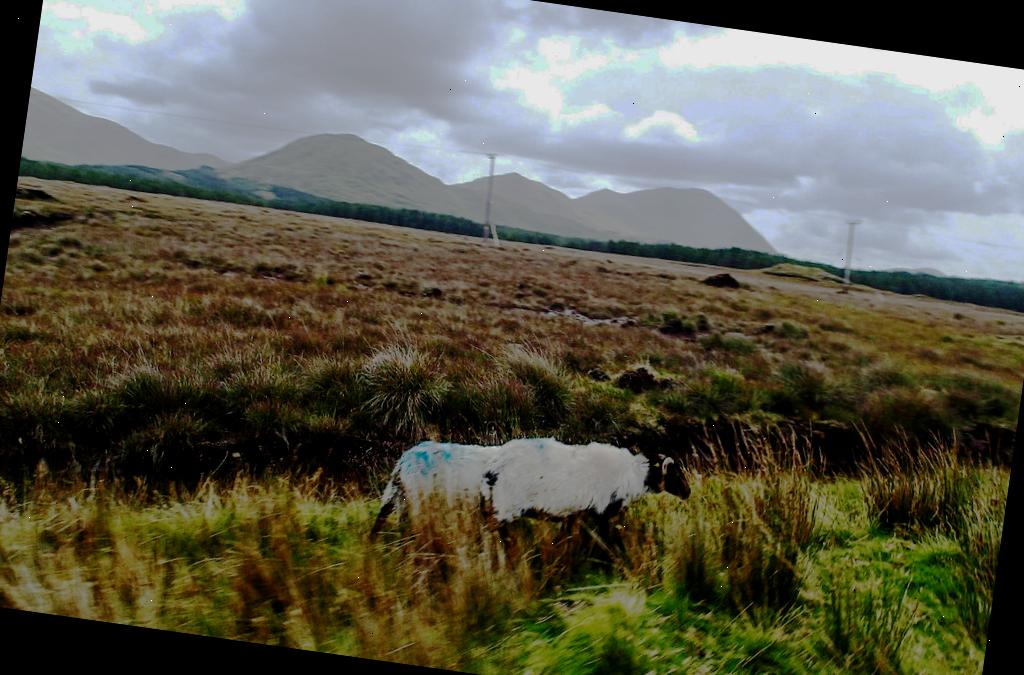Sheep: (466, 421, 698, 544), (358, 422, 504, 559)
